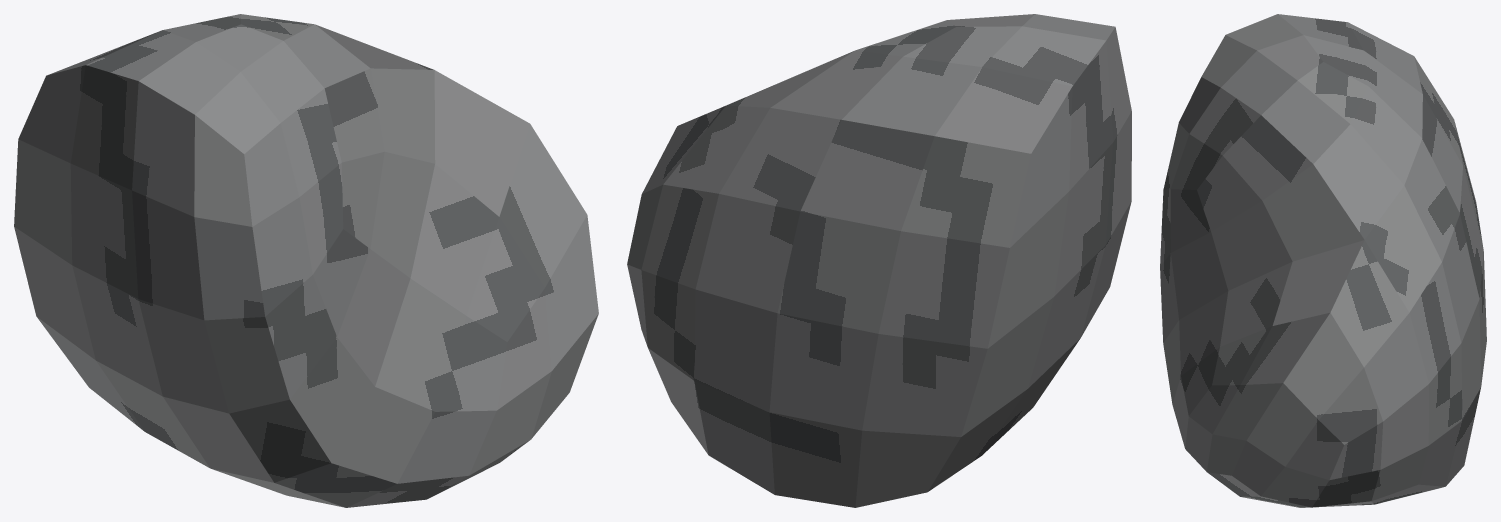
The model's file is rock.glb.
3 renders of one model, left to right at view 1: azimuth 30°, elevation 25°; view 2: azimuth 150°, elevation 25°; view 3: azimuth 270°, elevation 25°, orthographic. The views are drawn at different scales.
Parts seen in each view (by area): view 1: rock.001; view 2: rock.001; view 3: rock.001.
Boxes of the visible parts, x1,y1,x2,y2 form: rock.001: (14, 14, 598, 507); rock.001: (627, 14, 1131, 507); rock.001: (1160, 14, 1486, 507).
Size of the model in its own units: 0.8723 by 0.8482 by 0.6572.
Materials: 1 (1 with a texture image).
